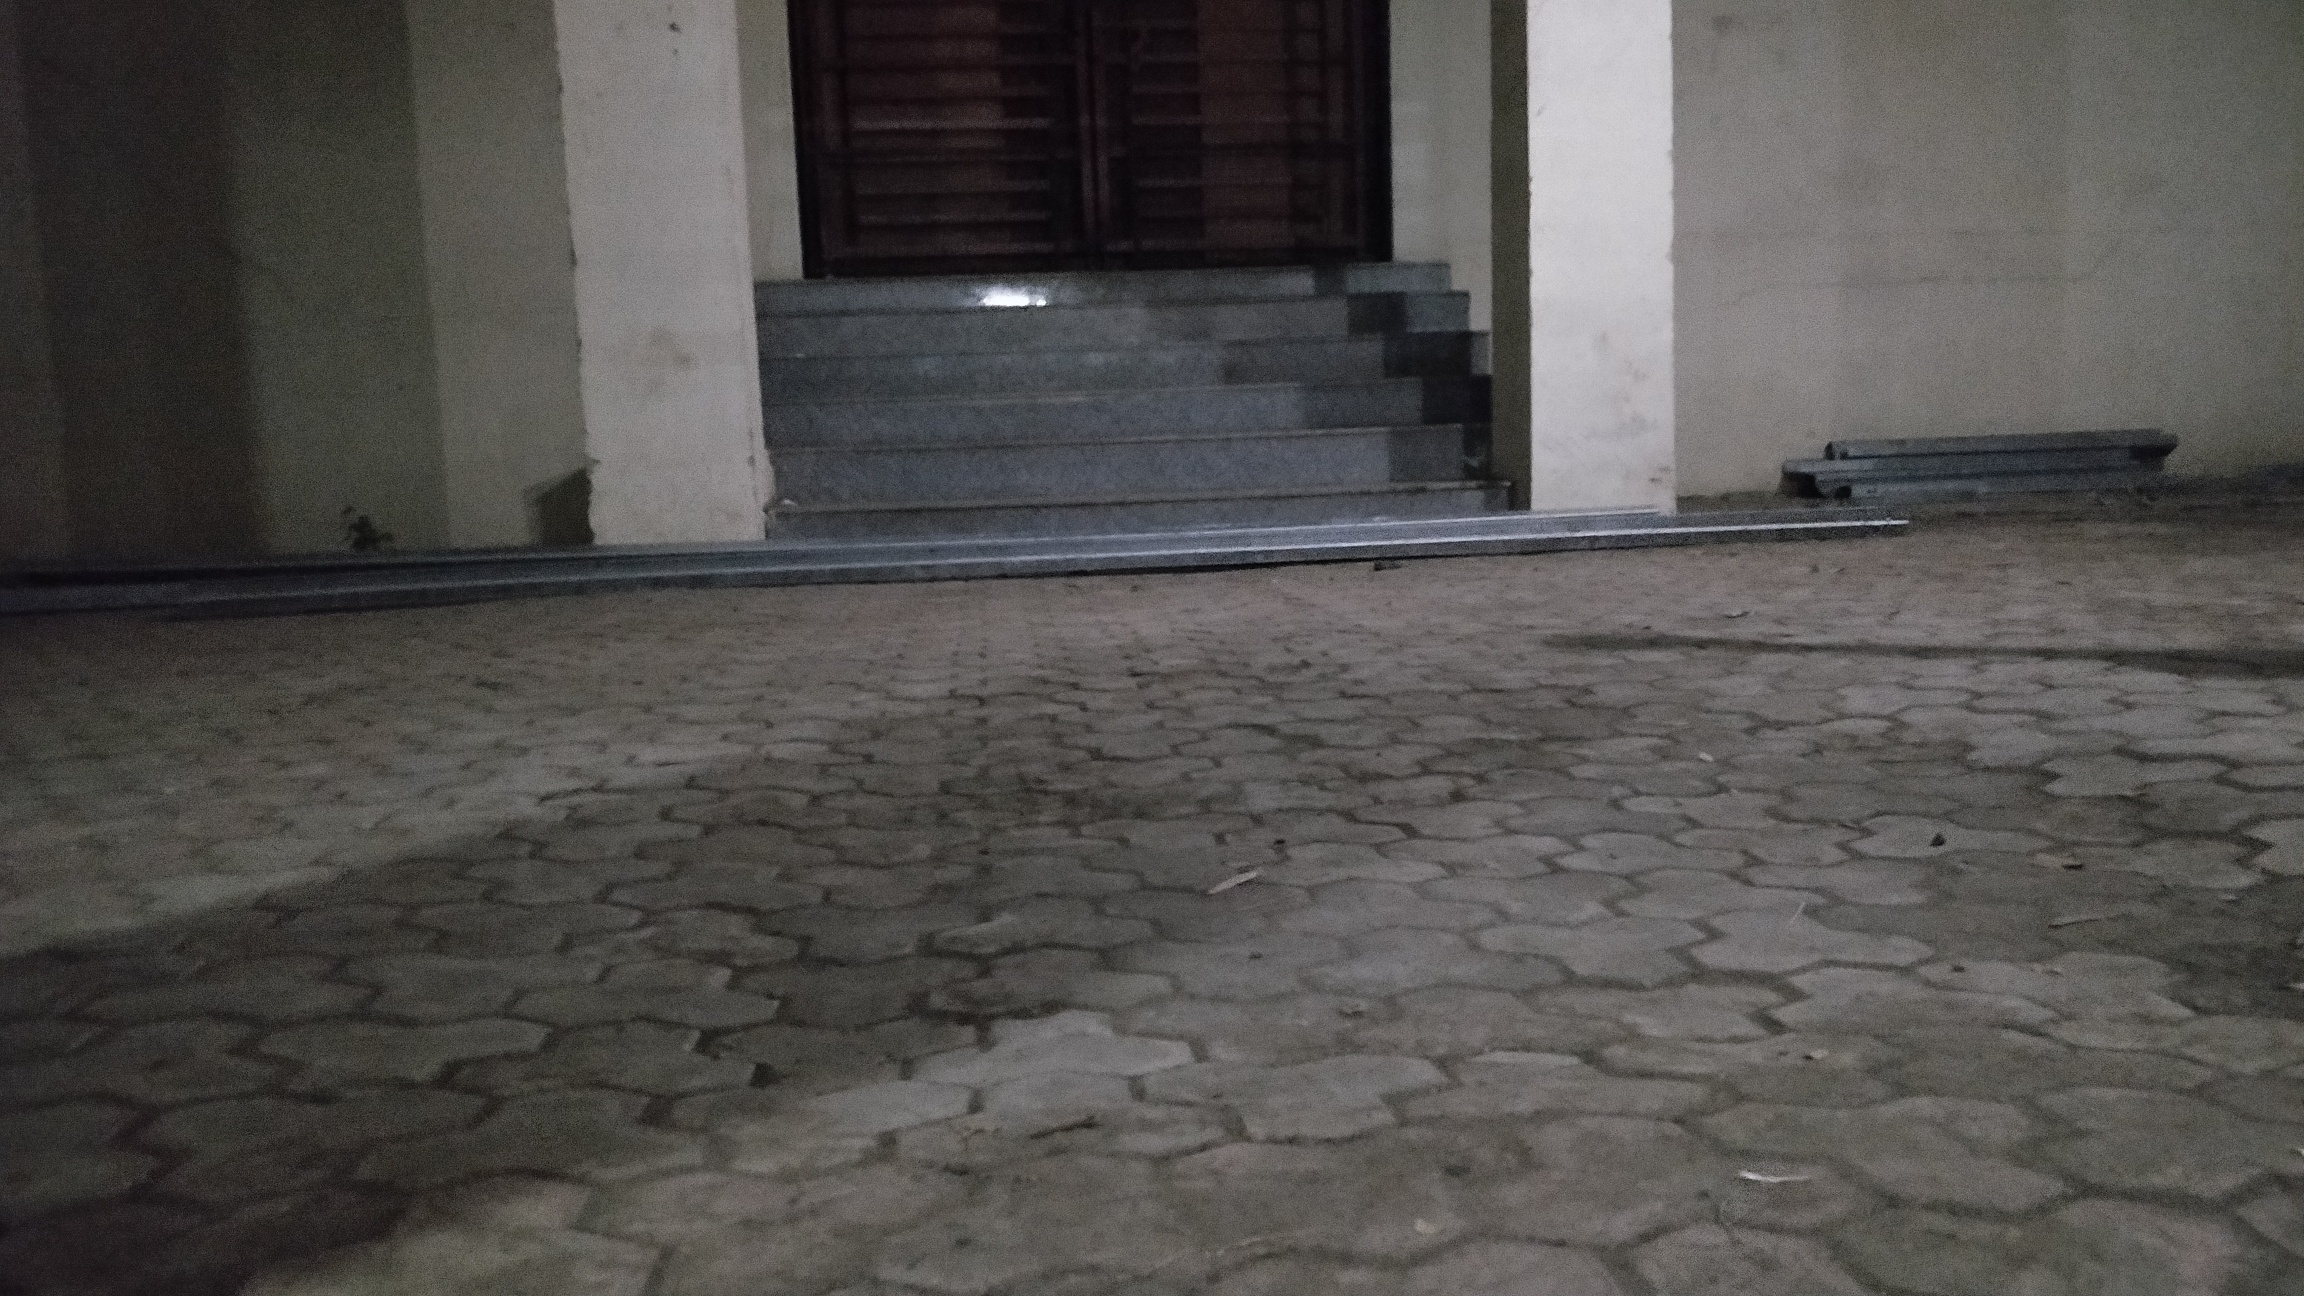stairs_up: (774, 283, 1492, 506)
